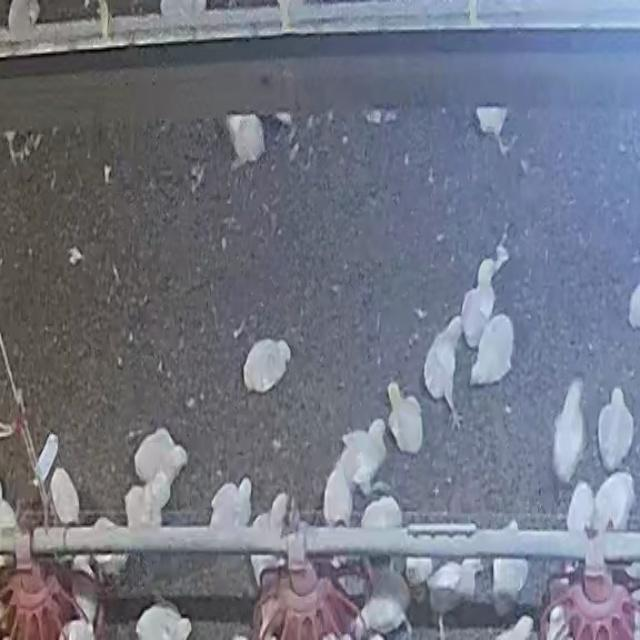chicken: (426, 557, 484, 632), (247, 484, 294, 575), (551, 379, 587, 483), (459, 258, 500, 348), (424, 318, 463, 408), (130, 424, 190, 482), (492, 518, 536, 596), (340, 421, 388, 490), (469, 313, 514, 386), (597, 387, 634, 472), (125, 469, 176, 527), (239, 338, 293, 390), (361, 567, 411, 622), (386, 384, 424, 455), (594, 472, 634, 530), (226, 114, 266, 168), (208, 478, 248, 531), (134, 602, 189, 640), (49, 466, 81, 523), (323, 462, 352, 524)
